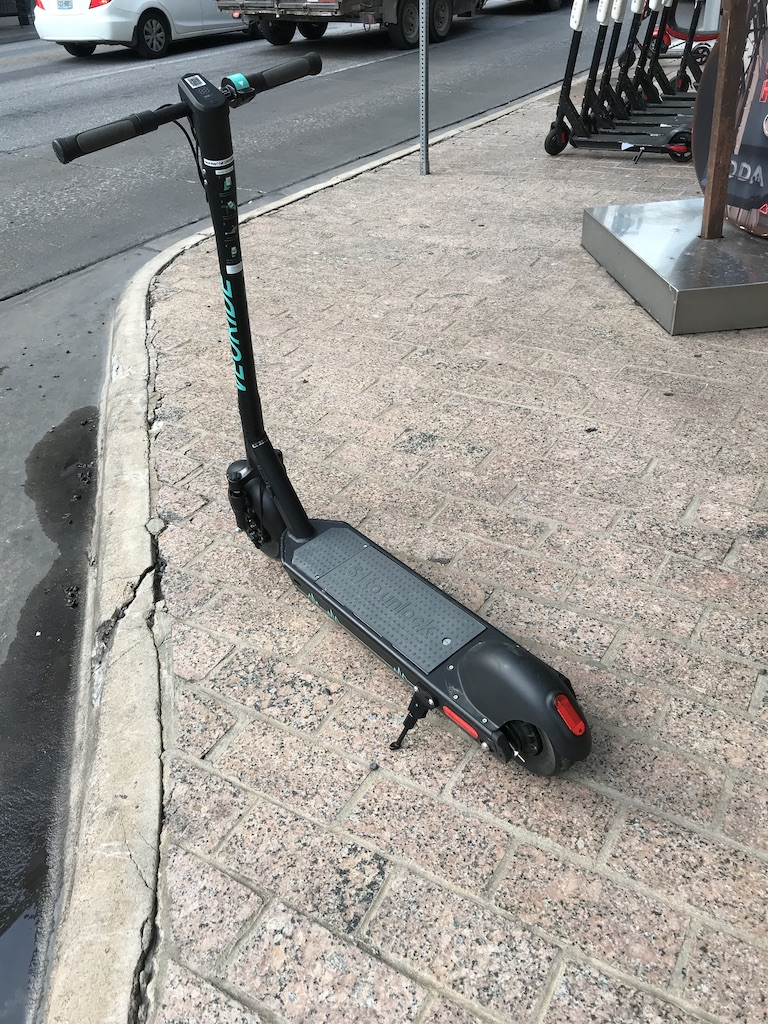scooter: (51, 52, 595, 776), (545, 1, 692, 162), (581, 2, 675, 135), (598, 2, 693, 127), (615, 2, 693, 117), (632, 2, 696, 108), (647, 1, 697, 102), (669, 2, 703, 92), (691, 44, 711, 65)
